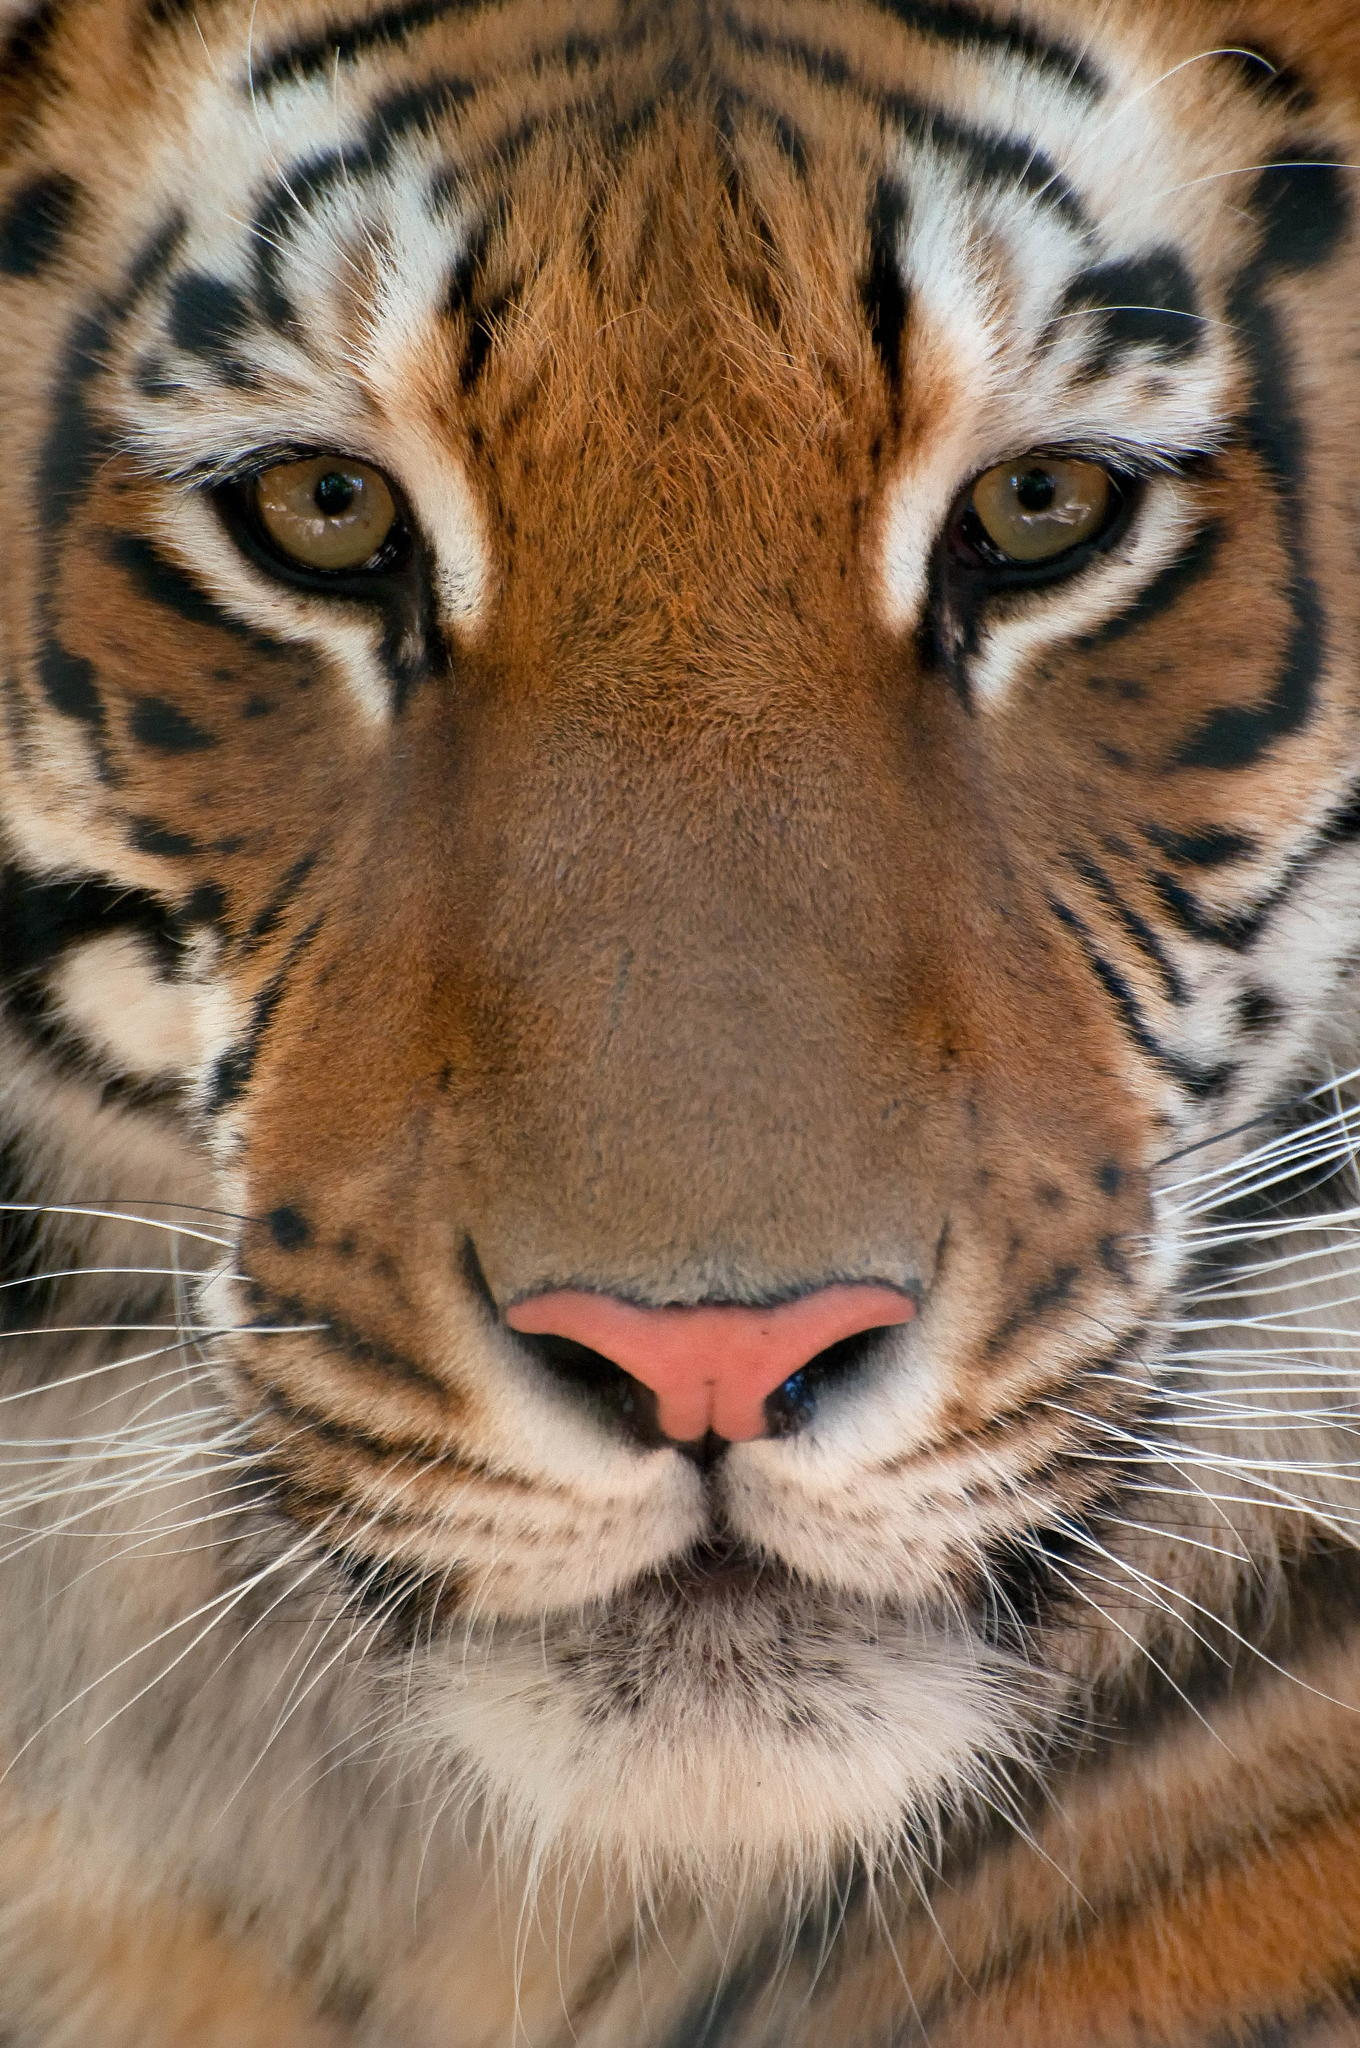tiger: (65, 55, 1330, 1760)
